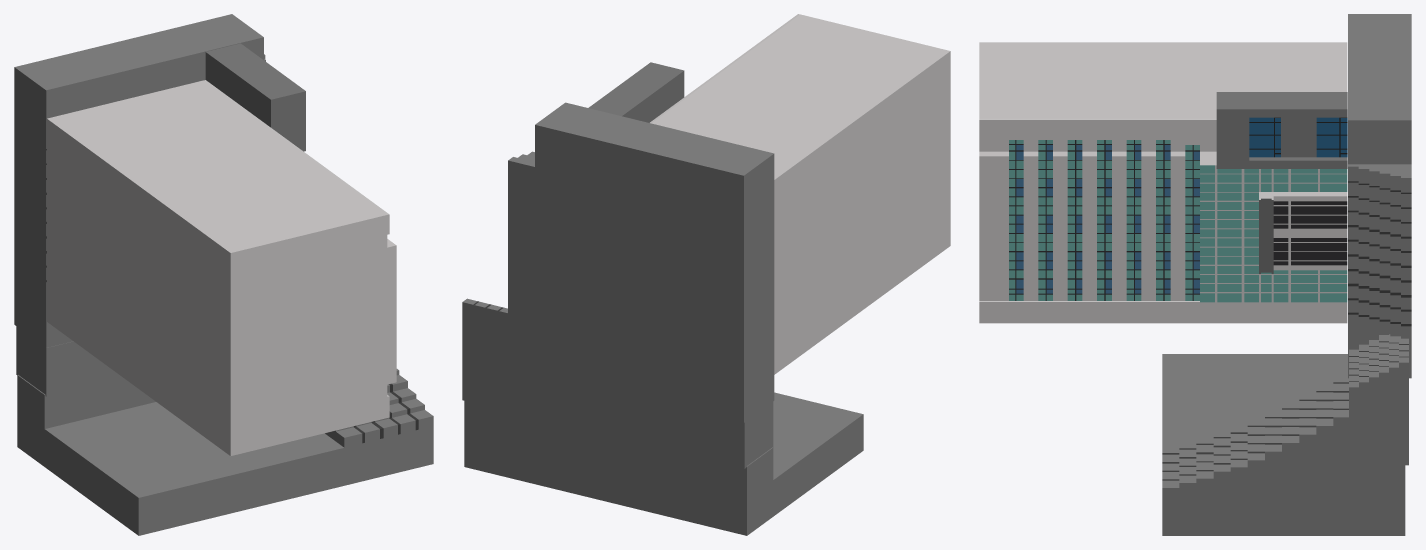
The picture shows the model from 3 angles, left to right: view 1: azimuth 30°, elevation 25°; view 2: azimuth 150°, elevation 25°; view 3: azimuth 270°, elevation 25°; orthographic projection. The views are drawn at different scales.
Parts seen in each view (by area): view 1: Cube, Cube.004, Cube.001, Cube.003, Cube.002; view 2: Cube.001, Cube, Cube.004, Cube.002, Cube.003; view 3: Cube, Cube.004, Cube.001, Cube.003, Cube.002.
Part boxes in pixels (<box>): Cube: <box>47,80,396,455</box>; Cube.004: <box>17,369,433,535</box>; Cube.001: <box>14,14,265,347</box>; Cube.003: <box>205,43,305,151</box>; Cube.002: <box>16,326,122,396</box>; Cube.001: <box>508,102,774,422</box>; Cube: <box>650,14,950,374</box>; Cube.004: <box>464,392,863,535</box>; Cube.002: <box>462,298,773,468</box>; Cube.003: <box>588,62,684,122</box>; Cube: <box>979,42,1347,323</box>; Cube.004: <box>1162,354,1405,535</box>; Cube.001: <box>1348,14,1411,378</box>; Cube.003: <box>1216,92,1347,168</box>; Cube.002: <box>1349,334,1408,465</box>.
Bounding box in the file's own units: 3163 × 3870 × 4010.
